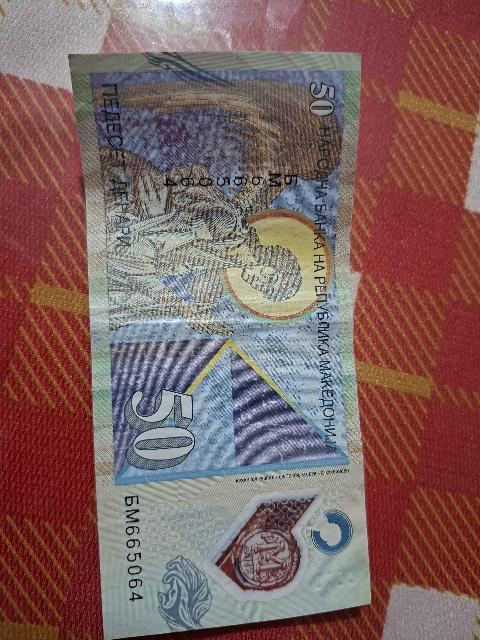note: (66, 52, 368, 639)
